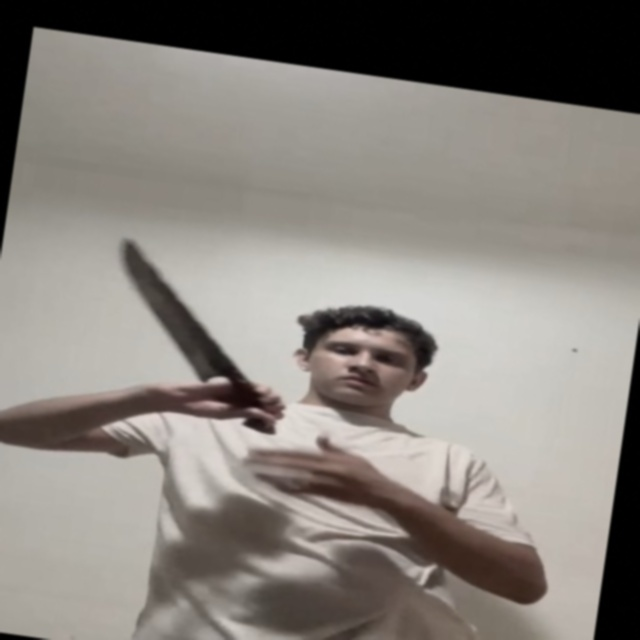Sharp-Object: (107, 236, 249, 382)
